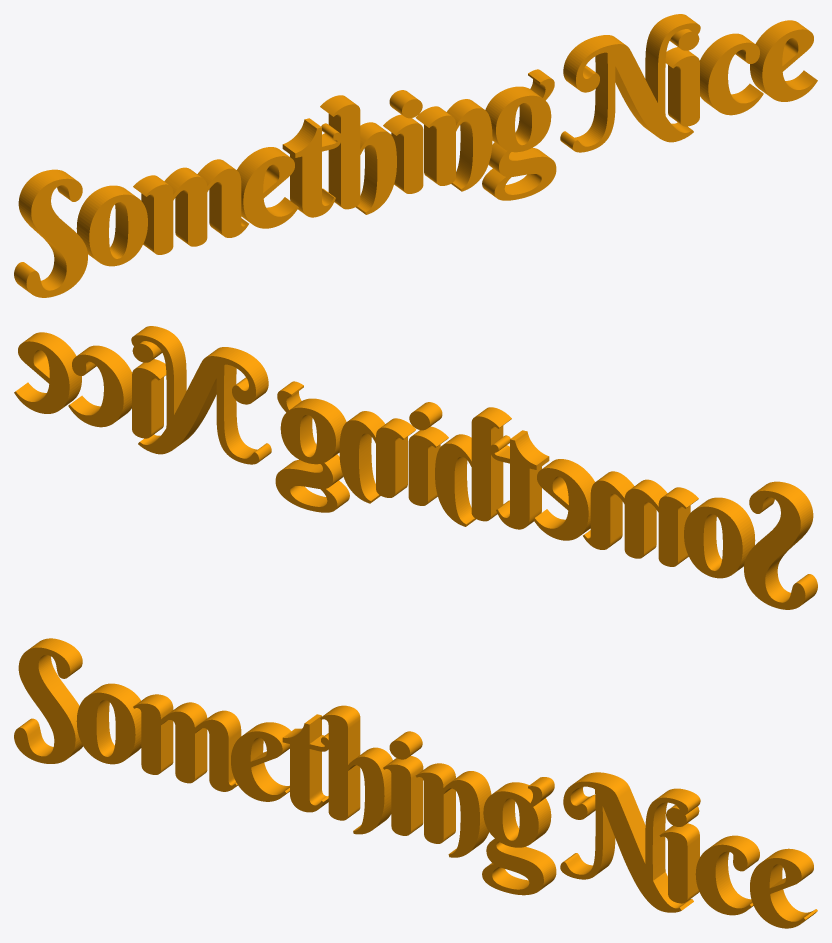
3 views of the same model, one above another, from view 1: azimuth 30°, elevation 25°; view 2: azimuth 150°, elevation 25°; view 3: azimuth 330°, elevation 25° (orthographic).
Visible parts, largest first — view 1: 3D Text - N, 3D Text - m, 3D Text - e (×2), 3D Text - g, 3D Text - h, 3D Text - i (×2), 3D Text - S, 3D Text - n, 3D Text - o, 3D Text - t, 3D Text - c; view 2: 3D Text - N, 3D Text - m, 3D Text - e (×2), 3D Text - g, 3D Text - h, 3D Text - i (×2), 3D Text - S, 3D Text - n, 3D Text - o, 3D Text - t, 3D Text - c; view 3: 3D Text - N, 3D Text - m, 3D Text - e (×2), 3D Text - g, 3D Text - S, 3D Text - h, 3D Text - i (×2), 3D Text - n, 3D Text - o, 3D Text - c, 3D Text - t.
Part boxes in pixels (bbox=[...]): 3D Text - N: bbox=[560, 14, 700, 152]; 3D Text - m: bbox=[133, 159, 248, 254]; 3D Text - e (×2): bbox=[237, 20, 817, 228]; 3D Text - g: bbox=[482, 69, 556, 200]; 3D Text - h: bbox=[320, 95, 396, 214]; 3D Text - i (×2): bbox=[383, 29, 699, 193]; 3D Text - S: bbox=[14, 169, 87, 297]; 3D Text - n: bbox=[415, 99, 492, 191]; 3D Text - o: bbox=[76, 185, 147, 266]; 3D Text - t: bbox=[282, 118, 341, 217]; 3D Text - c: bbox=[699, 33, 763, 115]; 3D Text - N: bbox=[131, 326, 271, 464]; 3D Text - m: bbox=[583, 471, 698, 566]; 3D Text - e (×2): bbox=[14, 332, 594, 540]; 3D Text - g: bbox=[275, 381, 349, 512]; 3D Text - h: bbox=[435, 407, 511, 526]; 3D Text - i (×2): bbox=[132, 341, 448, 505]; 3D Text - S: bbox=[744, 481, 817, 609]; 3D Text - n: bbox=[339, 411, 416, 503]; 3D Text - o: bbox=[684, 497, 755, 578]; 3D Text - t: bbox=[490, 430, 549, 529]; 3D Text - c: bbox=[68, 345, 132, 427]; 3D Text - N: bbox=[560, 772, 700, 912]; 3D Text - m: bbox=[133, 694, 241, 791]; 3D Text - e (×2): bbox=[231, 722, 817, 928]; 3D Text - g: bbox=[482, 777, 556, 895]; 3D Text - S: bbox=[14, 638, 83, 763]; 3D Text - h: bbox=[320, 705, 392, 834]; 3D Text - i (×2): bbox=[383, 731, 699, 903]; 3D Text - n: bbox=[415, 763, 491, 857]; 3D Text - o: bbox=[76, 683, 141, 764]; 3D Text - c: bbox=[695, 835, 759, 915]; 3D Text - t: bbox=[282, 714, 329, 812].
Bounding box in the file's own units: 0.0398 × 0.00652 × 0.00109.
